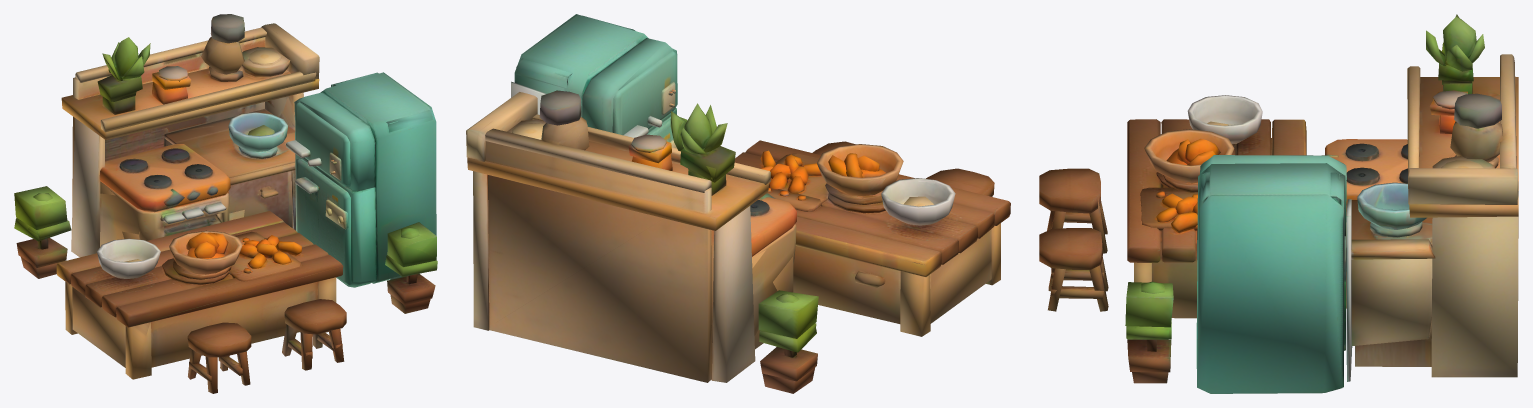
Rendered from kitchen0.glb.
3 renders of one model, left to right at view 1: azimuth 30°, elevation 25°; view 2: azimuth 150°, elevation 25°; view 3: azimuth 270°, elevation 25°, orthographic. The views are drawn at different scales.
Size of the model in its own units: 1.99 by 1.22 by 2.
1 material, 1 textured.
